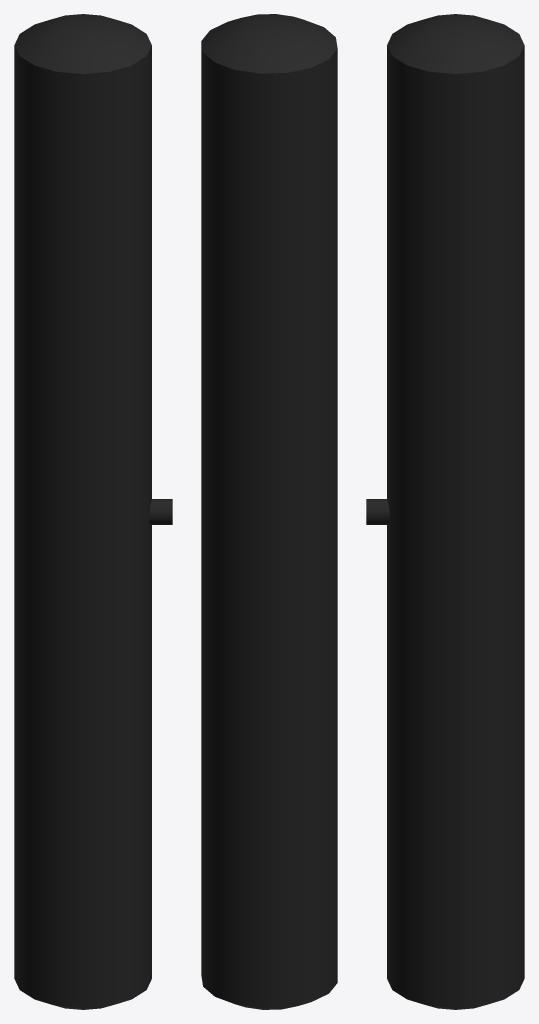
File: aquila_fuel_tank_single_srf_2.obj
3 views of the same model, side by side, from view 1: azimuth 90°, elevation 25°; view 2: azimuth 150°, elevation 25°; view 3: azimuth 270°, elevation 25° (orthographic).
Visible parts, largest first — view 1: aquila_radiator_tank_single_srf_2; view 2: aquila_radiator_tank_single_srf_2; view 3: aquila_radiator_tank_single_srf_2.
Part boxes in pixels (box(x1,y1,x2,y2)): aquila_radiator_tank_single_srf_2: box(14, 14, 172, 1009); aquila_radiator_tank_single_srf_2: box(201, 14, 337, 1009); aquila_radiator_tank_single_srf_2: box(366, 14, 524, 1009).
Bounding box in the file's own units: 0.25 × 1.95 × 0.2875.
